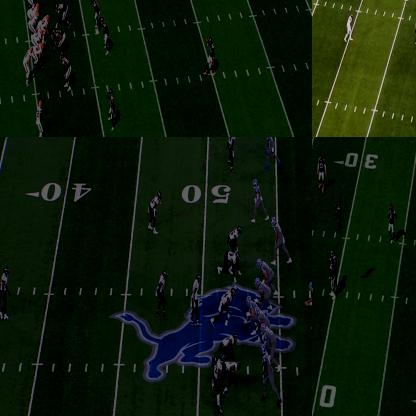CENTER: (242, 294, 260, 328), (41, 16, 51, 43)
DB: (211, 355, 226, 399), (147, 192, 160, 233), (2, 267, 10, 316), (207, 39, 216, 75), (229, 137, 240, 166), (388, 204, 396, 243), (110, 87, 116, 130), (319, 156, 326, 189), (347, 12, 353, 40)
LB: (213, 288, 237, 324), (192, 274, 204, 318), (157, 272, 167, 318), (226, 226, 243, 252), (327, 258, 336, 299), (101, 20, 111, 56), (93, 0, 102, 31), (329, 248, 336, 258)
QB: (28, 13, 38, 34), (305, 279, 311, 309)
SKILL: (273, 214, 289, 262), (251, 180, 267, 223), (264, 137, 278, 166), (36, 100, 44, 136), (24, 47, 32, 82)
